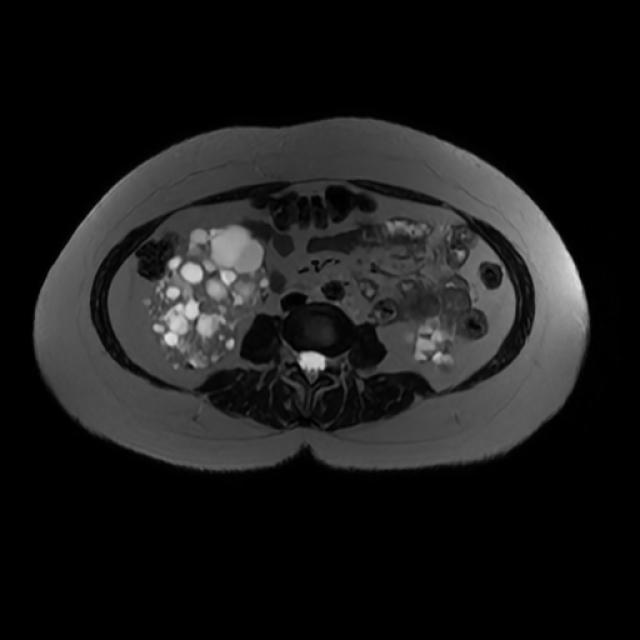sag: (147, 224, 269, 371)
sol: (414, 317, 452, 369)
